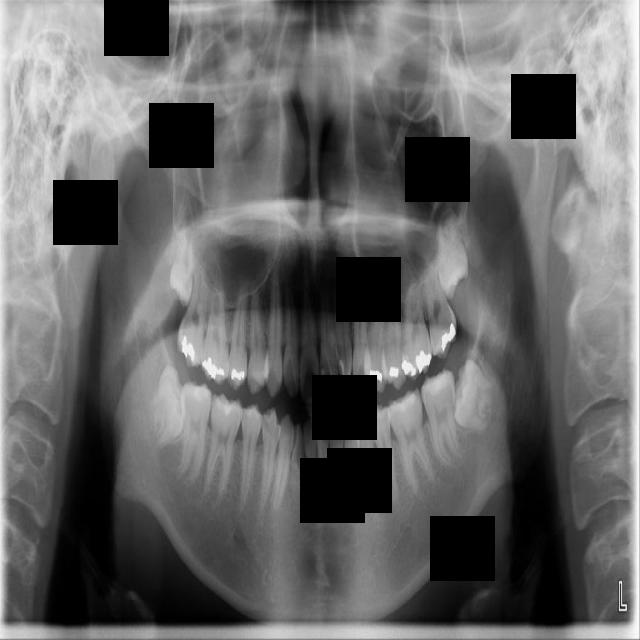3M ESPE Implant: (168, 230, 197, 308)
52: (397, 332, 436, 382), (426, 306, 460, 360), (199, 334, 232, 385), (176, 315, 205, 368), (379, 344, 409, 392), (364, 347, 387, 393), (226, 349, 249, 391)
73: (626, 620, 635, 625)
BioHorizons Implant: (421, 253, 459, 360)
BioLife Implant: (432, 213, 473, 303)
Biomet 3i Implant: (444, 357, 504, 435)
Blue Sky Bio Implant: (419, 367, 464, 467)
Caries: (175, 245, 211, 369)
Implant: (177, 379, 213, 483)
Keystone Dental Implant: (146, 364, 187, 450)
